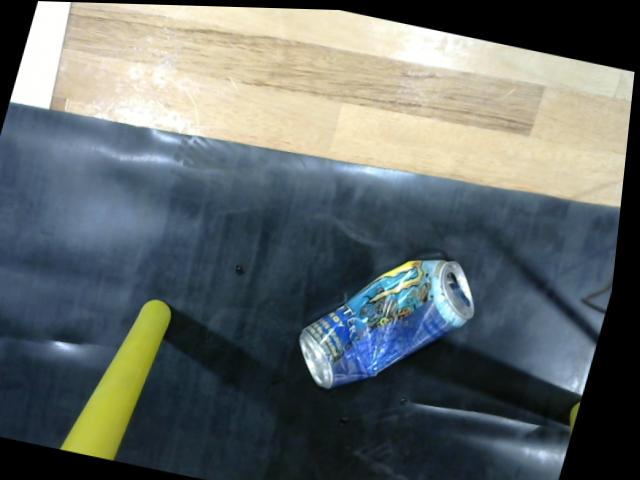can: (300, 250, 485, 391)
